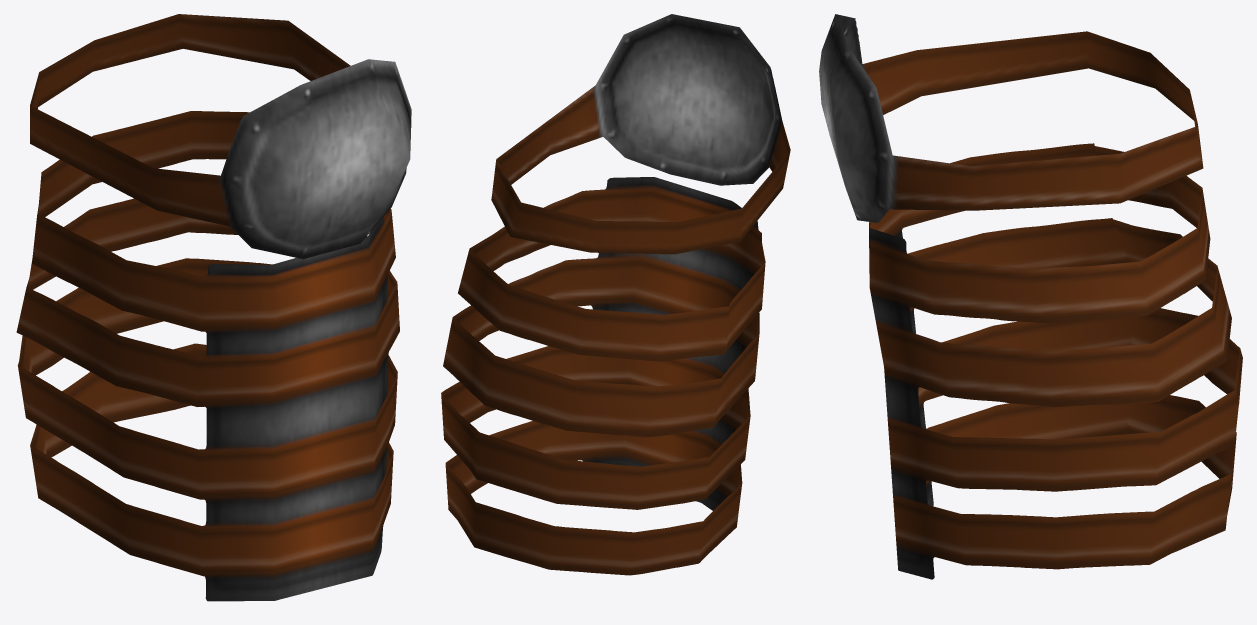
Rendered from LAS_1_Lower-leg_L.obj.
3 renders of one model, left to right at view 1: azimuth 30°, elevation 25°; view 2: azimuth 150°, elevation 25°; view 3: azimuth 270°, elevation 25°, orthographic. The views are drawn at different scales.
Visible parts, largest first — view 1: Knight.025_proxy741.obj.025; view 2: Knight.025_proxy741.obj.025; view 3: Knight.025_proxy741.obj.025.
Part boxes in pixels (x1,y1,x2,y2): Knight.025_proxy741.obj.025: [16, 14, 411, 601]; Knight.025_proxy741.obj.025: [441, 14, 790, 575]; Knight.025_proxy741.obj.025: [819, 14, 1242, 579].
Bounding box in the file's own units: 0.1967 × 0.3261 × 0.239.
